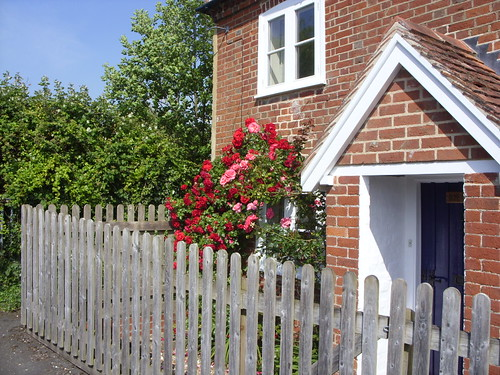medium: (188, 1, 500, 375)
